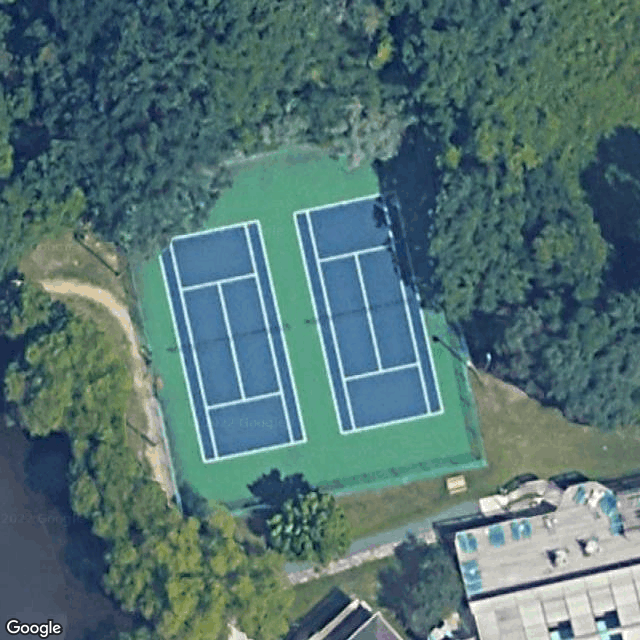Court: (152, 219, 309, 465), (292, 189, 446, 436)
